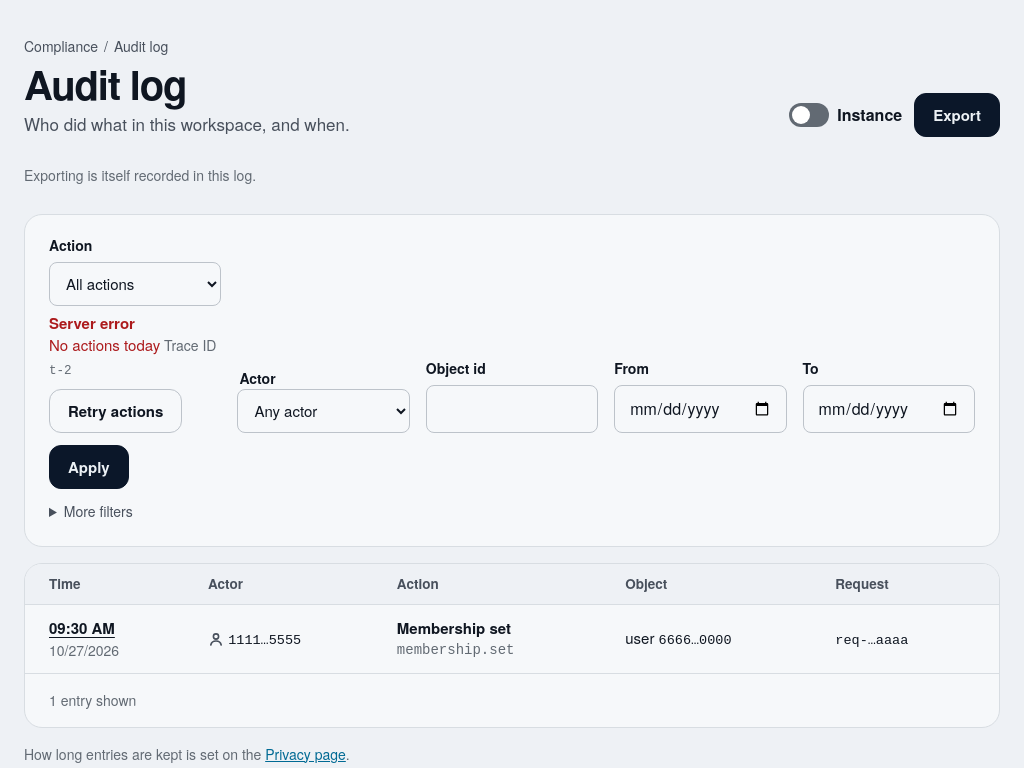
Test case: audit log › shows a failed action catalogue in the Action field and a retry that loads it
Expected: the text "No actions today" is shown, [49, 334, 160, 355]
Click the button "Retry actions": {"x": 116, "y": 411} [49, 389, 182, 433]
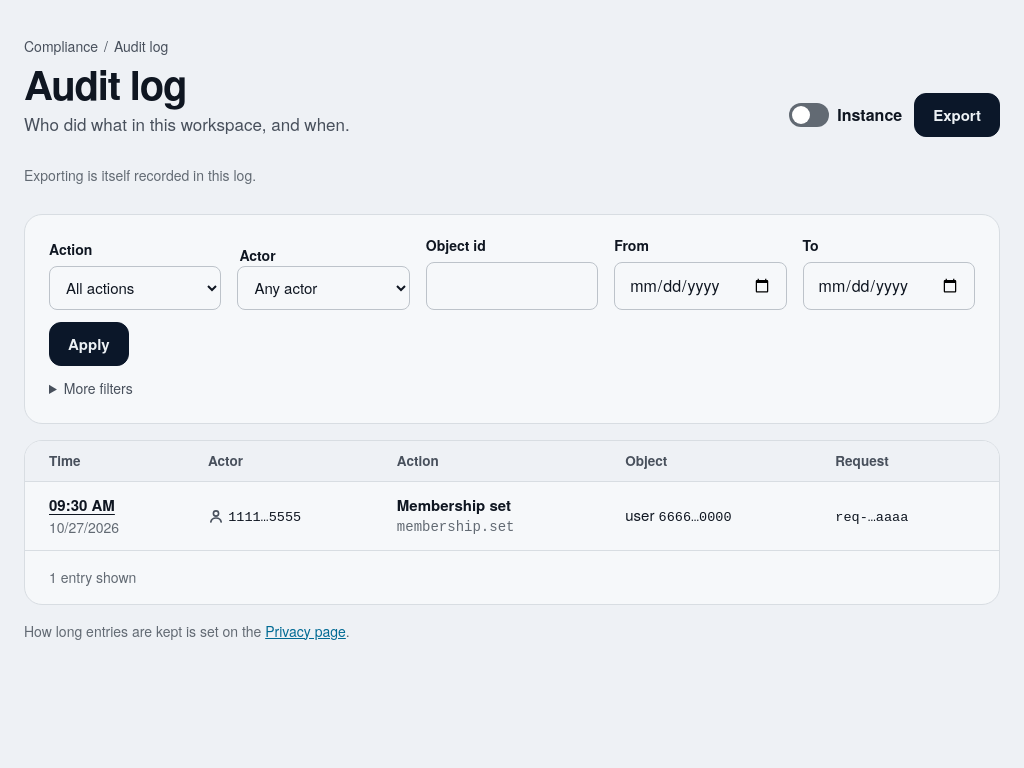
Result: the text "No actions today" is gone
